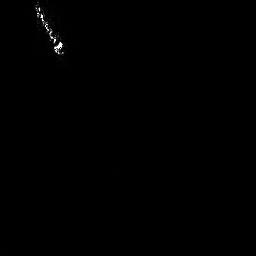ship: (33, 1, 64, 55)
